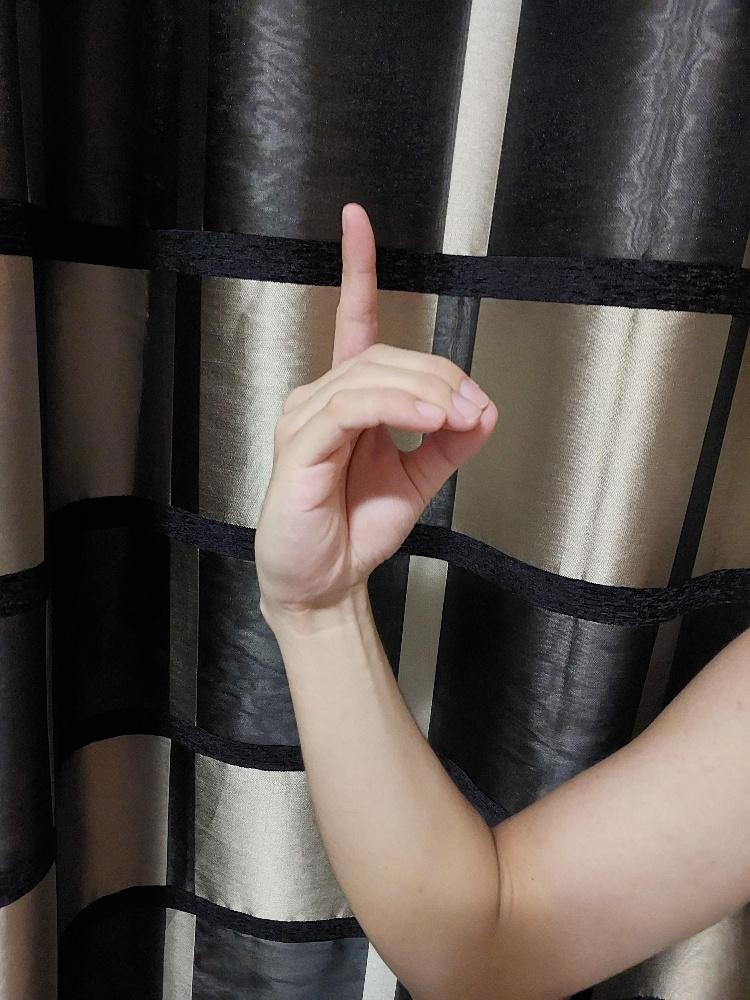d: (251, 198, 501, 602)
